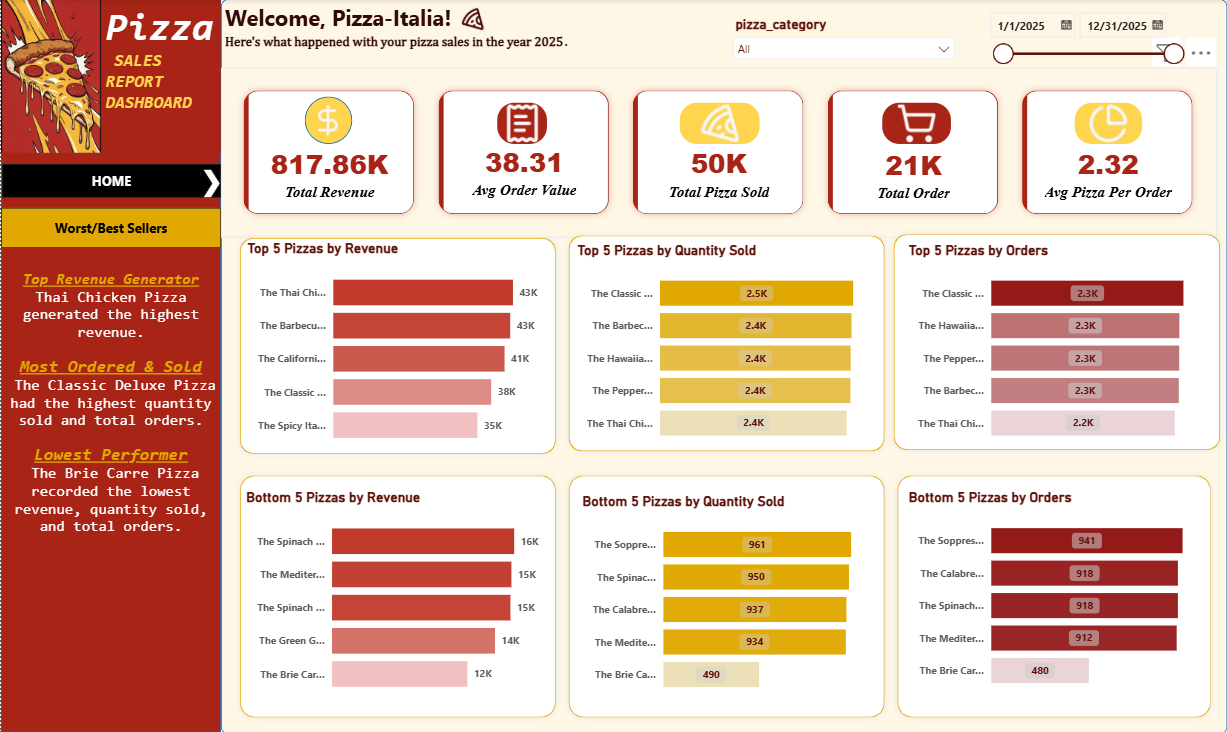

The page's visual inventory and layout, read from the dashboard file:
{"tool":"powerbi","page":{"name":"Worst/Best Sellers ","canvas":[1500,900],"ordinal":1},"visuals":[{"type":"shape","box":[0,0,269,900.3],"z":0},{"type":"shape","box":[269,0,1230.5,900.3],"z":1000},{"type":"image","box":[0,0,122.3,188],"z":2000},{"type":"textbox","box":[122.3,0,146.7,188],"z":3000},{"type":"cardVisual","fields":{"Data":["pizza_sale.Total Revenue","pizza_sale.Avg Order Value","pizza_sale.Total Pizza Sold","pizza_sale.Total Order","pizza_sale.Avg Pizza Per Order"]},"box":[269,84.1,1218.2,207.9],"z":4000},{"type":"shape","box":[371.4,119.2,58.1,58.1],"z":5000},{"type":"image","box":[379.1,119.2,41.3,58.1],"z":6000},{"type":"image","box":[606.8,126.9,61.1,50.4],"z":7000},{"type":"image","box":[830,126.9,97.8,50.4],"z":8000},{"type":"image","box":[1077.6,126.9,84.1,50.4],"z":9000},{"type":"image","box":[1313,126.9,82.5,50.4],"z":10000},{"type":"textbox","box":[269,0,440.2,70.3],"z":11000},{"type":"image","box":[562.5,6.1,29,36.7],"z":12000},{"type":"shape","box":[284.3,284.3,402,279.7],"z":13000},{"type":"shape","box":[1083.7,279.7,415,279.7],"z":14000},{"type":"shape","box":[284.3,574.7,402,311.8],"z":15000},{"type":"shape","box":[686.3,574.7,402,311.8],"z":16000},{"type":"shape","box":[1088.3,574.7,398.9,311.8],"z":17000},{"type":"slicer","fields":{"Values":["pizza_sale.pizza_category"]},"box":[885,15.3,290.4,68.8],"z":18000},{"type":"slicer","fields":{"Values":["pizza_sale.order_date_new"]},"box":[1196.8,6.1,258.3,78],"z":19000},{"type":"shape","box":[686.3,281.3,402,279.7],"z":20000},{"type":"barChart","title":"Top 5 Pizzas by Revenue ","fields":{"Category":["pizza_sale.pizza_name"],"Y":["pizza_sale.Total Revenue"]},"box":[296.5,294.9,386.8,264.3],"z":21000},{"type":"barChart","title":"Bottom 5 Pizzas by Revenue ","fields":{"Category":["pizza_sale.pizza_name"],"Y":["pizza_sale.Total Revenue"]},"box":[295,599.2,386.7,264.4],"z":22000},{"type":"barChart","title":"Top 5 Pizzas by Quantity Sold","fields":{"Category":["pizza_sale.pizza_name"],"Y":["pizza_sale.Total Pizza Sold"]},"box":[699.4,296.5,372.3,259.5],"z":23000},{"type":"barChart","title":"Bottom 5 Pizzas by Quantity Sold","fields":{"Category":["pizza_sale.pizza_name"],"Y":["pizza_sale.Total Pizza Sold"]},"box":[706.2,603.8,365.3,259.9],"z":24000},{"type":"barChart","title":"Top 5 Pizzas by Orders","fields":{"Category":["pizza_sale.pizza_name"],"Y":["pizza_sale.Total Order"]},"box":[1105.5,296.5,372.3,259.5],"z":25000},{"type":"barChart","title":"Bottom 5 Pizzas by Orders","fields":{"Category":["pizza_sale.pizza_name"],"Y":["pizza_sale.Total Order"]},"box":[1105.5,599.5,372.3,259.5],"z":26000},{"type":"pageNavigator","box":[1.6,201.4,267.5,41.9],"z":27000},{"type":"pageNavigator","box":[0,254.6,269.1,50],"z":28000},{"type":"textbox","box":[0,327.1,269.1,348.1],"z":29000},{"type":"shape","box":[246.6,207.9,22.6,35.5],"z":29001}]}

Visuals, with their boxes in screenshot pixels (x1, y1, x2, y2), scaled from the page's 1500x900 canvas onto the 1227x732 screenshot:
shape: 0, 0, 220, 731
shape: 220, 0, 1226, 731
image: 0, 0, 100, 153
textbox: 100, 0, 220, 153
cardVisual - pizza_sale.Total Revenue x pizza_sale.Avg Order Value: 220, 68, 1217, 237
shape: 304, 97, 351, 144
image: 310, 97, 344, 144
image: 496, 103, 546, 144
image: 679, 103, 759, 144
image: 881, 103, 950, 144
image: 1074, 103, 1142, 144
textbox: 220, 0, 580, 57
image: 460, 5, 484, 35
shape: 233, 231, 561, 459
shape: 886, 227, 1226, 455
shape: 233, 467, 561, 721
shape: 561, 467, 890, 721
shape: 890, 467, 1217, 721
slicer - pizza_sale.pizza_category: 724, 12, 961, 68
slicer - pizza_sale.order_date_new: 979, 5, 1190, 68
shape: 561, 229, 890, 456
"Top 5 Pizzas by Revenue " barChart: 243, 240, 559, 455
"Bottom 5 Pizzas by Revenue " barChart: 241, 487, 558, 702
"Top 5 Pizzas by Quantity Sold" barChart: 572, 241, 877, 452
"Bottom 5 Pizzas by Quantity Sold" barChart: 578, 491, 876, 702
"Top 5 Pizzas by Orders" barChart: 904, 241, 1209, 452
"Bottom 5 Pizzas by Orders" barChart: 904, 488, 1209, 699
pageNavigator: 1, 164, 220, 198
pageNavigator: 0, 207, 220, 248
textbox: 0, 266, 220, 549
shape: 202, 169, 220, 198
